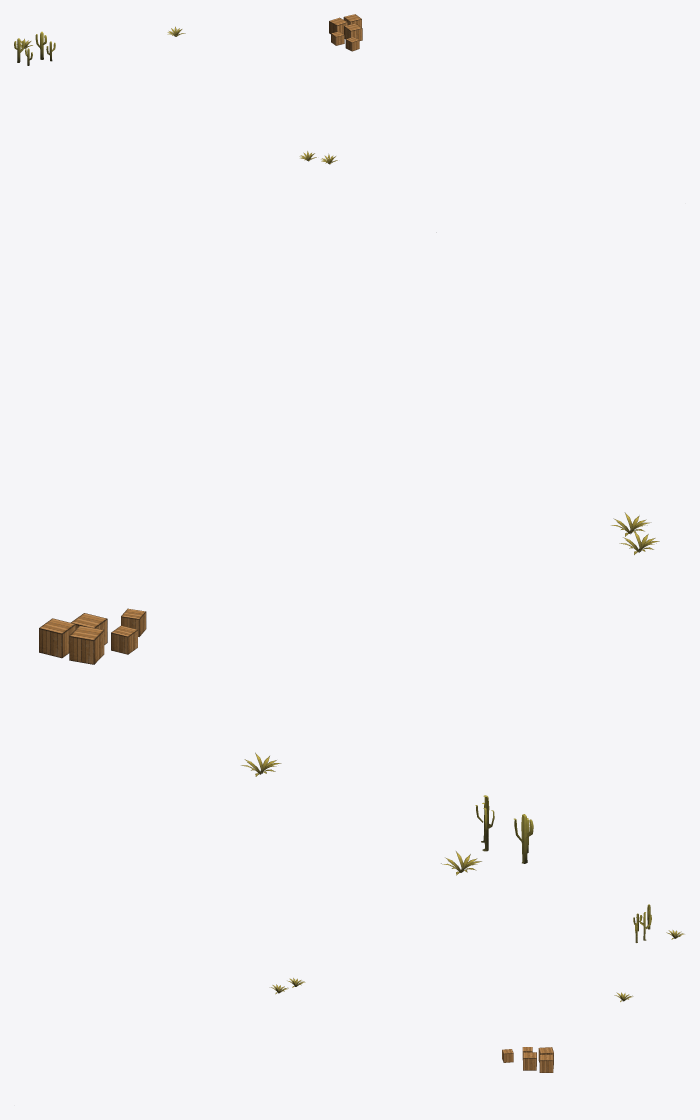
The model's file is T6_bush_box_env.fbx.
The picture shows the model from 3 angles, top to bottom: view 1: azimuth 30°, elevation 25°; view 2: azimuth 150°, elevation 25°; view 3: azimuth 270°, elevation 25°; orthographic projection. The views are drawn at different scales.
Visible parts, largest first — view 1: army_base_02; view 2: army_base_02, pCube307, pCube308; view 3: army_base_02.
Part boxes in pixels (x1,y1,x2,y2): army_base_02: (14,26,337,164); army_base_02: (241,512,659,875); pCube307: (69,625,104,664); pCube308: (39,618,75,658); army_base_02: (269,904,684,1001).
Bounding box in the file's own units: 215 × 16 × 341.
